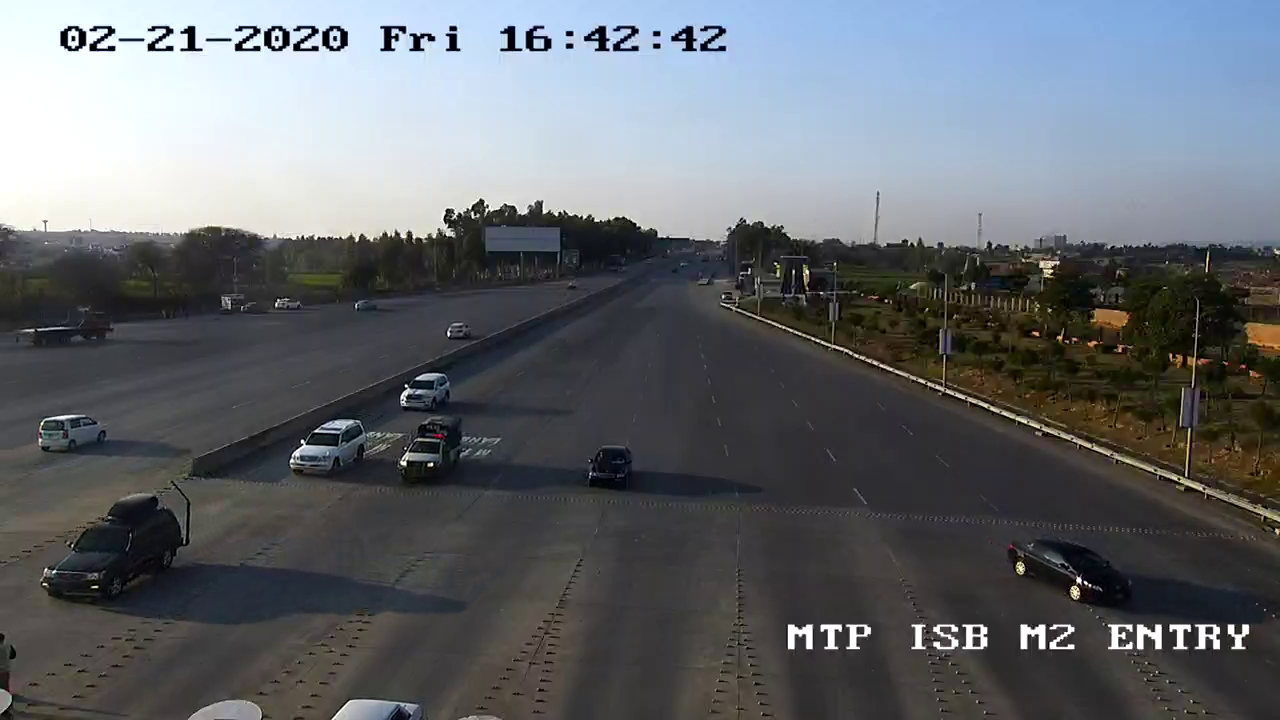f1: (30, 488, 192, 614), (385, 408, 479, 491), (279, 408, 372, 484), (579, 432, 642, 500)
